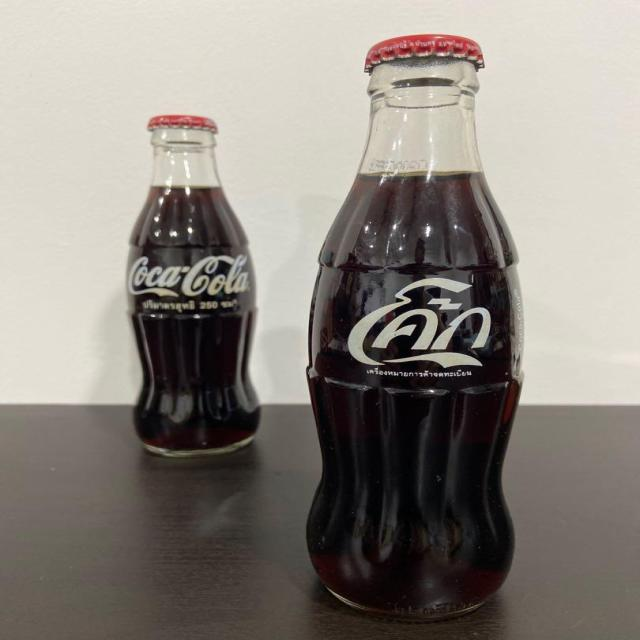glass bottle: (302, 27, 524, 625), (123, 113, 267, 462)
